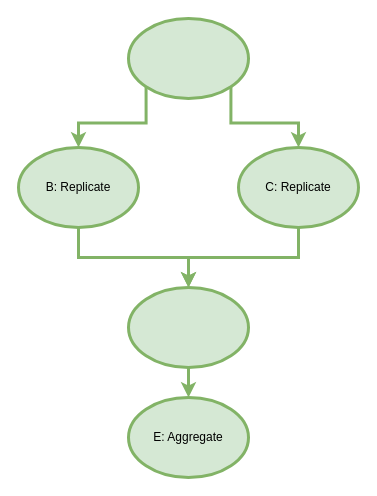
The diagram is 377 pixels wide and 496 high, and some of its shapes have lost their labels. The centre of each missing label's shape, as x and y in pixels:
"A: Start replication" goes at (x=188, y=58).
"D: Replicate" goes at (x=188, y=327).
